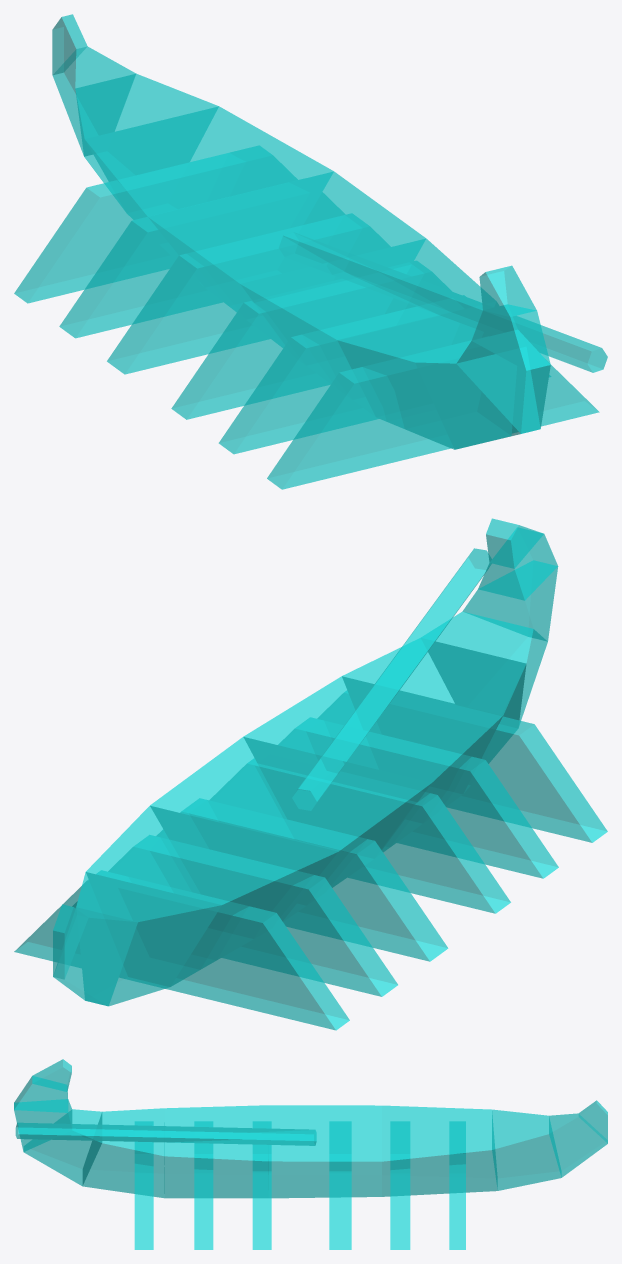
Rendered from SM_Prop_Boat_Structure_01_Collision.fbx.
3 views of the same model, one above another, from view 1: azimuth 30°, elevation 25°; view 2: azimuth 150°, elevation 25°; view 3: azimuth 270°, elevation 25° (orthographic). The views are drawn at different scales.
Parts seen in each view (by area): view 1: SM_Prop_Boat_Structure_01_Collision; view 2: SM_Prop_Boat_Structure_01_Collision; view 3: SM_Prop_Boat_Structure_01_Collision.
Boxes of the visible parts, x1,y1,x2,y2 form: SM_Prop_Boat_Structure_01_Collision: (14,14,607,489); SM_Prop_Boat_Structure_01_Collision: (14,518,607,1030); SM_Prop_Boat_Structure_01_Collision: (14,1059,607,1249).
Bounding box in the file's own units: 759 × 513 × 1988.
